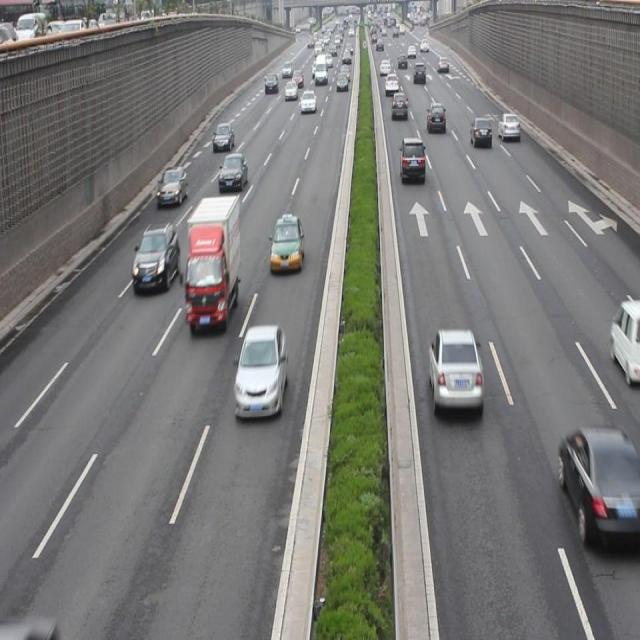bus: (185, 194, 239, 331)
car: (556, 426, 640, 545), (233, 324, 287, 417), (427, 326, 481, 415), (132, 222, 179, 290), (608, 299, 640, 380), (268, 213, 304, 274), (398, 135, 425, 185), (157, 164, 188, 206), (219, 153, 248, 191), (426, 101, 447, 136), (469, 116, 491, 148), (497, 113, 519, 142), (213, 122, 233, 149)
